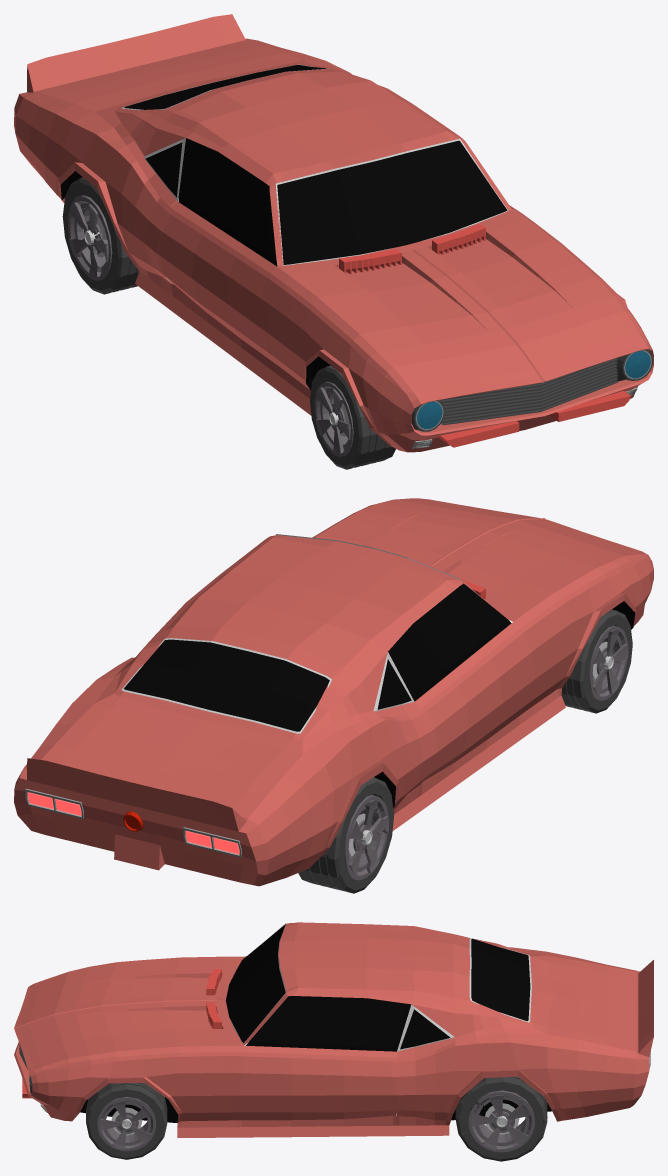
The model's file is car.glb.
The picture shows the model from 3 angles, top to bottom: view 1: azimuth 30°, elevation 25°; view 2: azimuth 150°, elevation 25°; view 3: azimuth 270°, elevation 25°; orthographic projection. The views are drawn at different scales.
Parts seen in each view (by area): view 1: Carroceria_Plano, Parabrisas_Ad_Plano.005, Pueratas_Plano.008, Ventana_1_Plano.013, Rejilla_Plano.002, Ruedas_Ad_Círculo.004, Ruedas_Tr_Círculo.005, Wheel1, Plano.002_Plano.019, Wheel2, Cubo, Parabrisas_Tr_Plano.015 (+4 smaller); view 2: Carroceria_Plano, Parabrisas_Tr_Plano.015, Pueratas_Plano.008, Ventana_1_Plano.013, Ruedas_Tr_Círculo.005, Ruedas_Ad_Círculo.004, Wheel1, Wheel2, Luz_Tr_Plano.021, Marco_Parabrisad_Tr_Plano.016, Ventana_2_Plano.010; view 3: Carroceria_Plano, Pueratas_Plano.008, Ventana_1_Plano.013, Parabrisas_Ad_Plano.005, Parabrisas_Tr_Plano.015, Ruedas_Tr_Círculo.005, Wheel1, Ruedas_Ad_Círculo.004, Wheel2, Ventana_2_Plano.010, Cubo, Marco_Ventana_2_Plano.012 (+1 smaller).
Part boxes in pixels (x1,y1,x2,y2): Carroceria_Plano: (14, 14, 653, 452); Parabrisas_Ad_Plano.005: (277, 140, 507, 264); Pueratas_Plano.008: (156, 202, 519, 367); Ventana_1_Plano.013: (178, 138, 277, 266); Rejilla_Plano.002: (441, 358, 617, 425); Ruedas_Ad_Círculo.004: (310, 365, 395, 469); Ruedas_Tr_Círculo.005: (62, 177, 139, 294); Wheel1: (68, 195, 112, 280); Plano.002_Plano.019: (438, 390, 630, 447); Wheel2: (314, 381, 353, 456); Cubo: (339, 224, 485, 273); Parabrisas_Tr_Plano.015: (124, 65, 326, 109); Carroceria_Plano: (14, 498, 653, 886); Parabrisas_Tr_Plano.015: (124, 639, 329, 731); Pueratas_Plano.008: (415, 622, 540, 780); Ventana_1_Plano.013: (388, 583, 511, 701); Ruedas_Tr_Círculo.005: (298, 777, 393, 893); Ruedas_Ad_Círculo.004: (561, 609, 632, 713); Wheel1: (344, 795, 388, 880); Wheel2: (589, 625, 628, 700); Luz_Tr_Plano.021: (25, 788, 241, 857); Marco_Parabrisad_Tr_Plano.016: (121, 638, 331, 733); Ventana_2_Plano.010: (377, 659, 411, 709); Carroceria_Plano: (14, 922, 653, 1137); Pueratas_Plano.008: (230, 956, 396, 1120); Ventana_1_Plano.013: (246, 996, 411, 1051); Parabrisas_Ad_Plano.005: (226, 924, 285, 1042); Parabrisas_Tr_Plano.015: (471, 938, 530, 1021); Ruedas_Tr_Círculo.005: (455, 1076, 547, 1161); Wheel1: (468, 1090, 534, 1152); Ruedas_Ad_Círculo.004: (86, 1083, 167, 1159); Wheel2: (97, 1097, 156, 1151); Ventana_2_Plano.010: (400, 1009, 450, 1049); Cubo: (206, 969, 221, 1028); Marco_Ventana_2_Plano.012: (397, 1004, 454, 1051).
Bounding box in the file's own units: 3.92 × 2.67 × 9.85.
